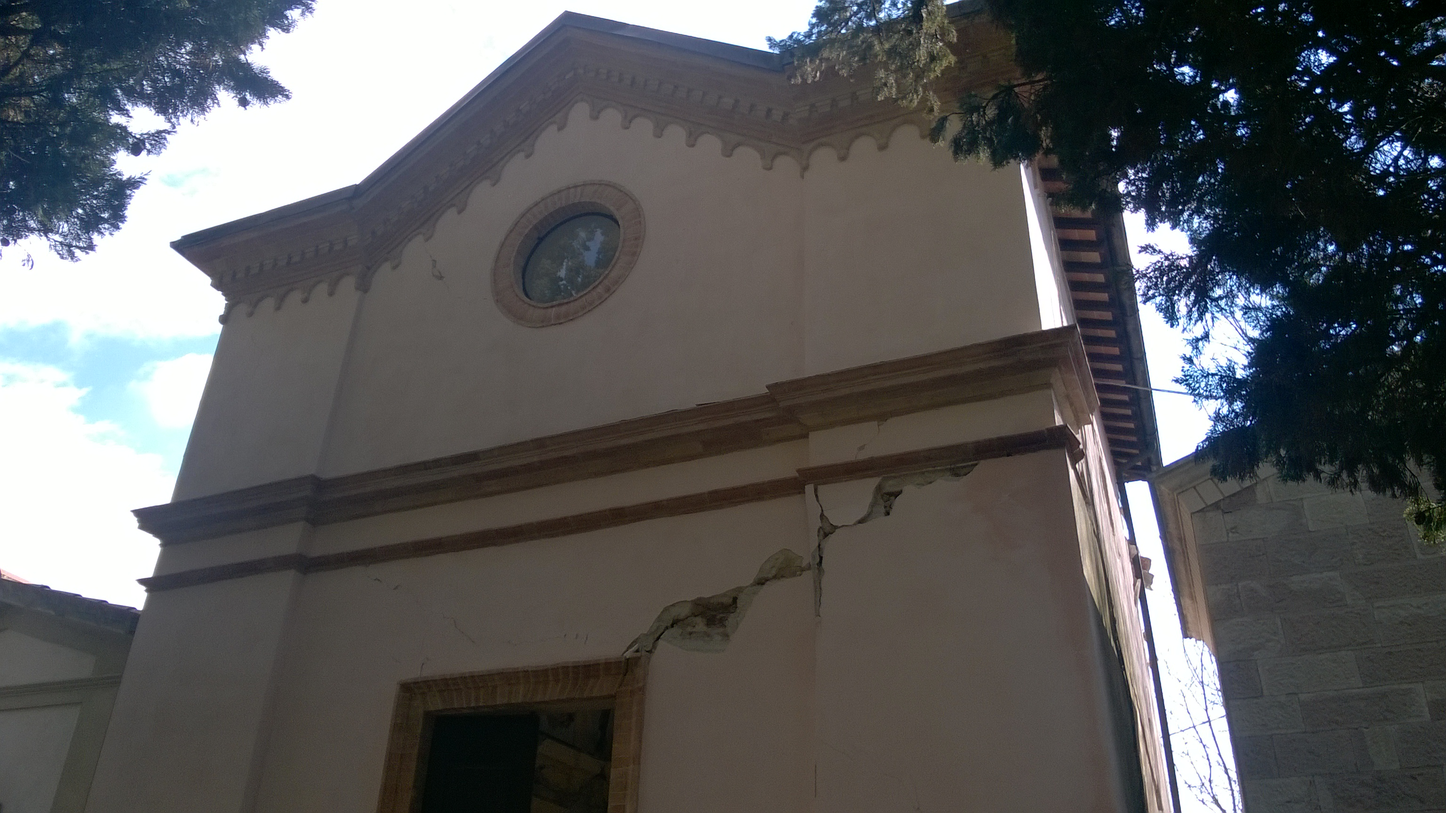Crack: (282, 435, 1082, 708), (390, 213, 491, 323)
